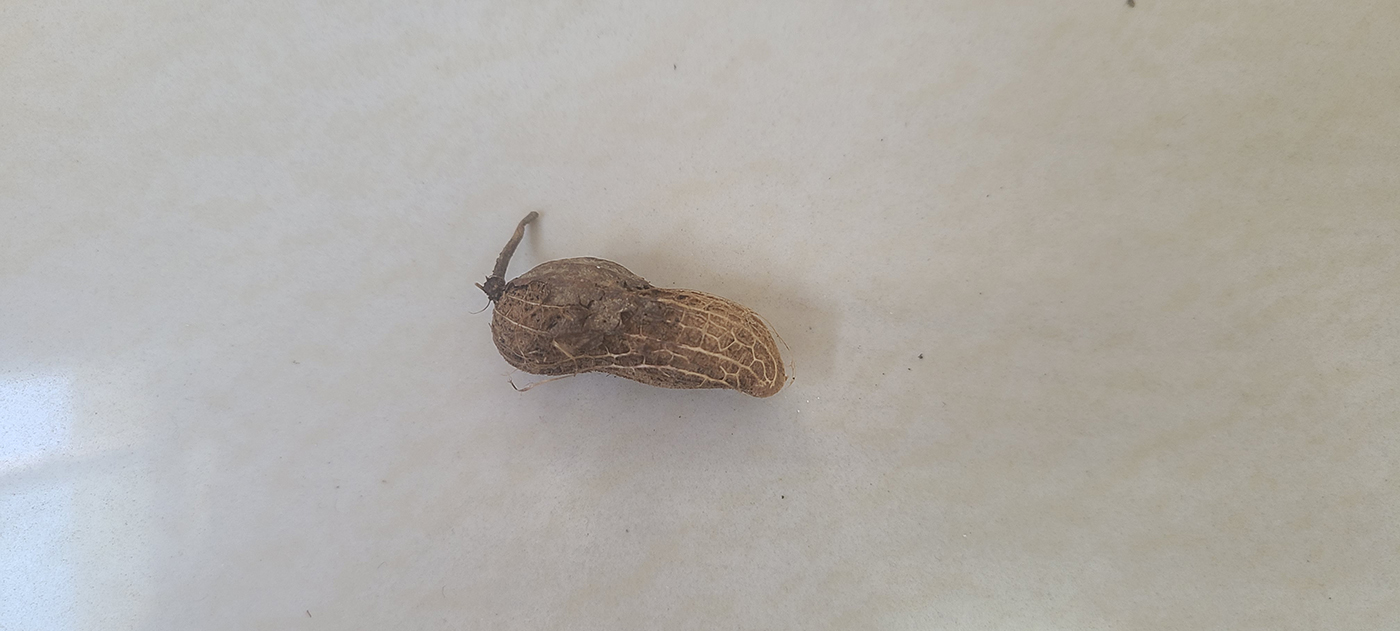l: (489, 257, 789, 402)
